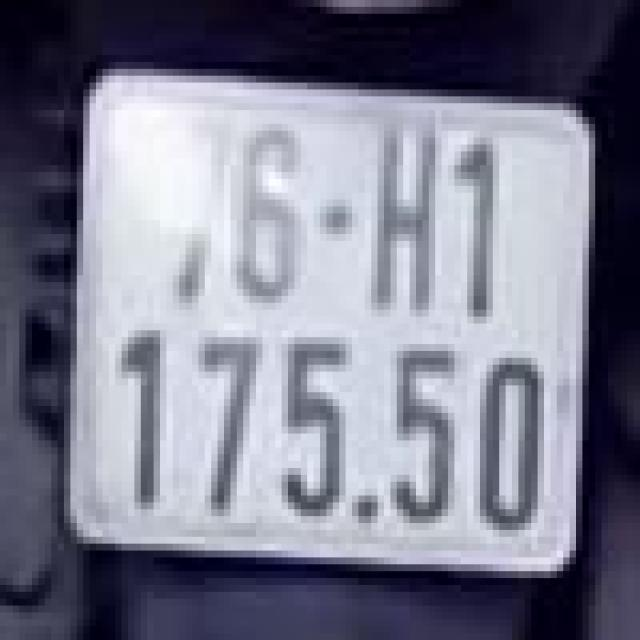0: (474, 354, 556, 540)
1: (115, 327, 173, 513), (454, 124, 506, 316)
5: (278, 323, 356, 523), (380, 334, 458, 526)
6: (237, 124, 307, 310)
7: (189, 330, 259, 516), (163, 110, 227, 303)
H: (362, 117, 444, 323)
